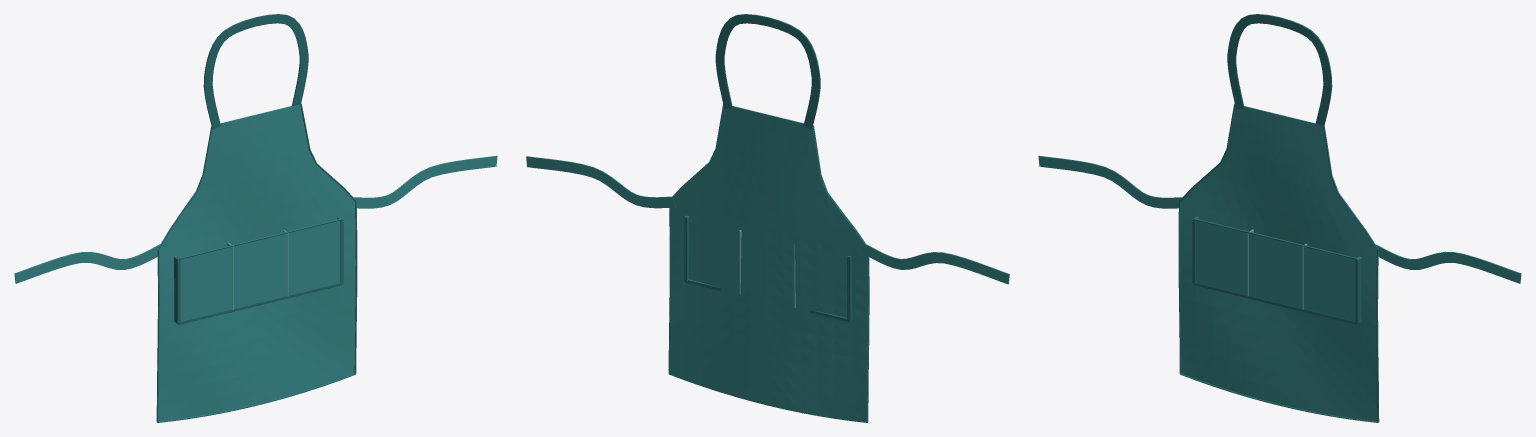
The model's file is full.glb.
3 views of the same model, side by side, from view 1: azimuth 30°, elevation 25°; view 2: azimuth 150°, elevation 25°; view 3: azimuth 330°, elevation 25° (orthographic).
Parts seen in each view (by area): view 1: Continuous shaped bib and skirt cloth, Broad sewn pocket face, Closed neck loop, Free waist tie -1, Free waist tie 1, Double side hem -1, Double side hem 1, Pocket bottom gusset, Pocket side gusset -0.247; view 2: Continuous shaped bib and skirt cloth, Closed neck loop, Free waist tie 1, Free waist tie -1, Double side hem -1; view 3: Continuous shaped bib and skirt cloth, Broad sewn pocket face, Closed neck loop, Free waist tie 1, Free waist tie -1, Double side hem 1, Double side hem -1, Pocket bottom gusset, Pocket side gusset 0.247, Curved lower hem.
Boxes of the visible parts, <box> form: Continuous shaped bib and skirt cloth: <box>158,104,355,421</box>; Broad sewn pocket face: <box>177,218,342,324</box>; Closed neck loop: <box>203,14,308,129</box>; Free waist tie -1: <box>14,244,160,283</box>; Free waist tie 1: <box>354,155,497,208</box>; Double side hem -1: <box>156,125,212,422</box>; Double side hem 1: <box>300,103,357,373</box>; Pocket bottom gusset: <box>176,283,342,324</box>; Pocket side gusset -0.247: <box>174,256,180,323</box>; Continuous shaped bib and skirt cloth: <box>669,105,868,422</box>; Closed neck loop: <box>715,14,820,129</box>; Free waist tie 1: <box>526,156,675,208</box>; Free waist tie -1: <box>861,243,1009,284</box>; Double side hem -1: <box>813,125,869,422</box>; Continuous shaped bib and skirt cloth: <box>1180,106,1377,421</box>; Broad sewn pocket face: <box>1193,218,1358,324</box>; Closed neck loop: <box>1227,14,1332,125</box>; Free waist tie 1: <box>1375,244,1521,283</box>; Free waist tie -1: <box>1038,155,1181,208</box>; Double side hem 1: <box>1323,125,1379,422</box>; Double side hem -1: <box>1178,103,1235,373</box>; Pocket bottom gusset: <box>1193,283,1360,324</box>; Pocket side gusset 0.247: <box>1355,256,1361,323</box>; Curved lower hem: <box>1180,373,1378,422</box>.
Size of the model in its own units: 1.46 by 1.12 by 0.0321.
